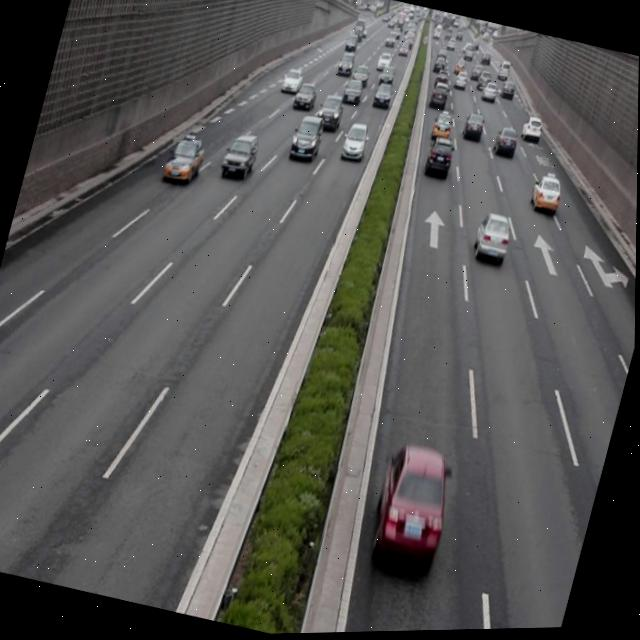car: (363, 437, 462, 576), (470, 209, 514, 267), (163, 130, 208, 186), (218, 130, 261, 184), (287, 111, 328, 165), (526, 173, 565, 219), (423, 135, 457, 182), (340, 120, 371, 163), (314, 93, 346, 133), (491, 124, 520, 161), (428, 110, 455, 144), (292, 81, 319, 113), (460, 112, 486, 145)
